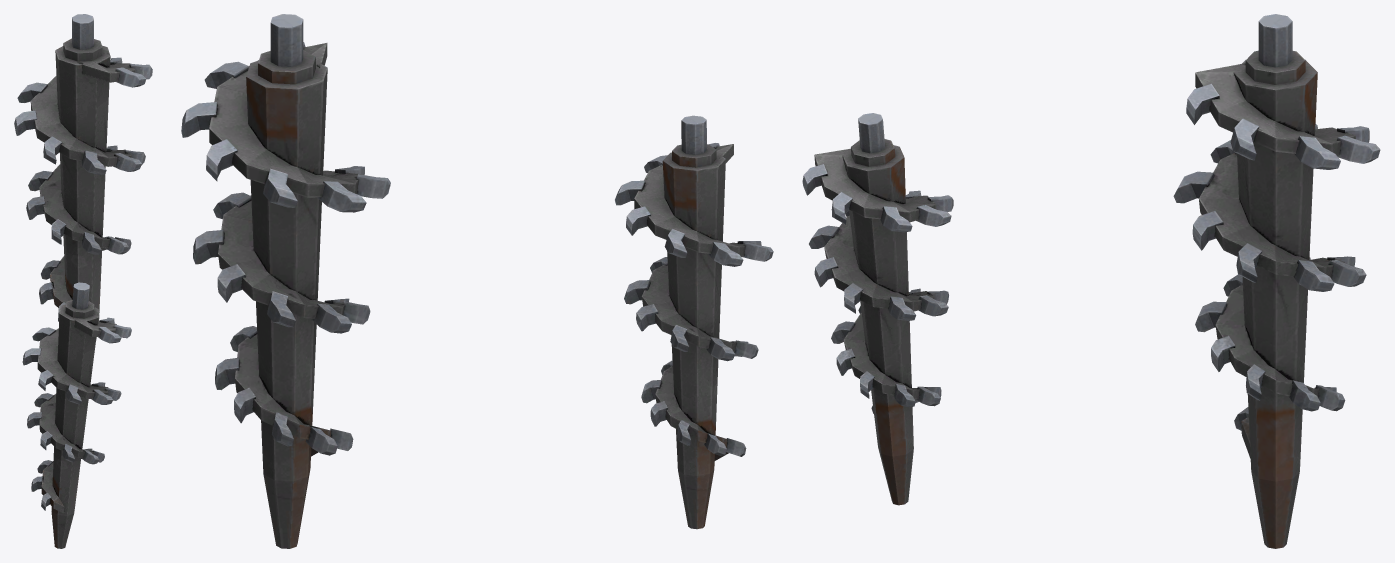
The model's file is TurboDrillBit.glb.
3 views of the same model, side by side, from view 1: azimuth 30°, elevation 25°; view 2: azimuth 150°, elevation 25°; view 3: azimuth 270°, elevation 25° (orthographic). The views are drawn at different scales.
Parts seen in each view (by area): view 1: WorldModel, drillbit; view 2: WorldModel, drillbit; view 3: WorldModel, drillbit.
Boxes of the visible parts, left/top/right/bottom form: WorldModel: left=14, top=14, right=152, bottom=340; drillbit: left=22, top=282, right=131, bottom=548; WorldModel: left=181, top=14, right=390, bottom=548; drillbit: left=615, top=115, right=773, bottom=529; WorldModel: left=1173, top=14, right=1380, bottom=548; drillbit: left=802, top=113, right=953, bottom=505.
Size of the model in its own units: 0.7571 by 1.17 by 1.04.
1 material, 1 textured.
